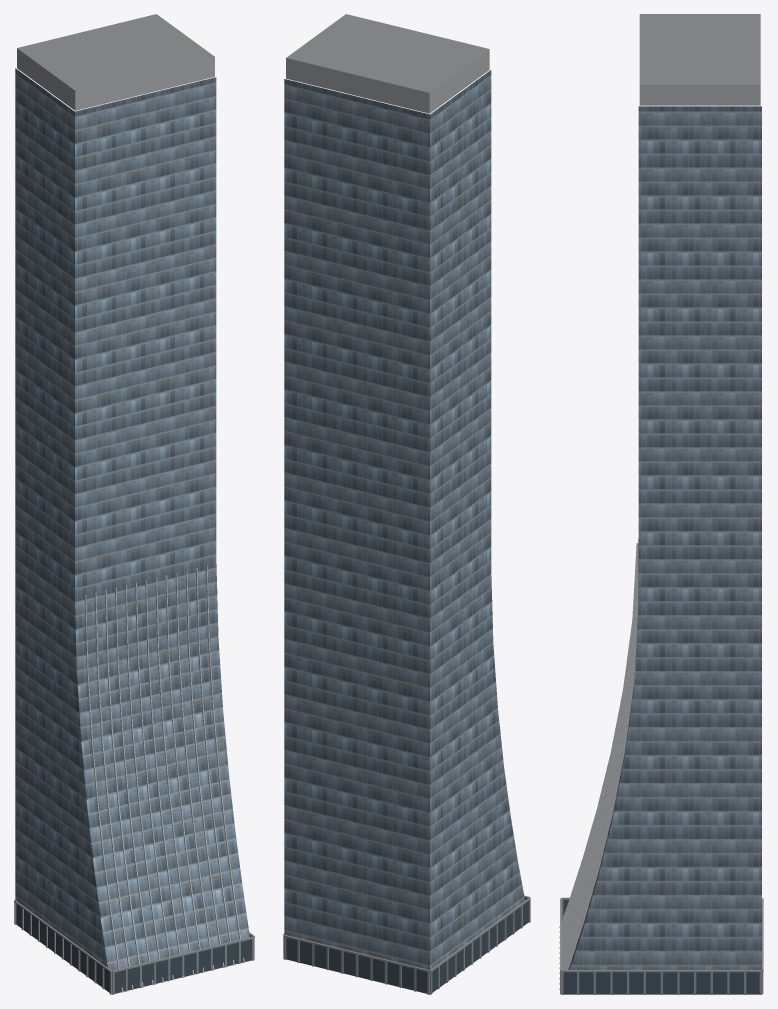
The model's file is rainier_square_tower.glb.
3 renders of one model, left to right at view 1: azimuth 30°, elevation 25°; view 2: azimuth 150°, elevation 25°; view 3: azimuth 270°, elevation 25°, orthographic. The views are drawn at different scales.
Parts seen in each view (by area): view 1: rainier_square_tower; view 2: rainier_square_tower; view 3: rainier_square_tower.
Part boxes in pixels (box(x1,y1,x2,y2)): rainier_square_tower: box(14, 14, 254, 994); rainier_square_tower: box(283, 14, 530, 994); rainier_square_tower: box(559, 14, 763, 994).
Bounding box in the file's own units: 44.78 × 260 × 52.91.
Materials: 2 (2 with a texture image).
